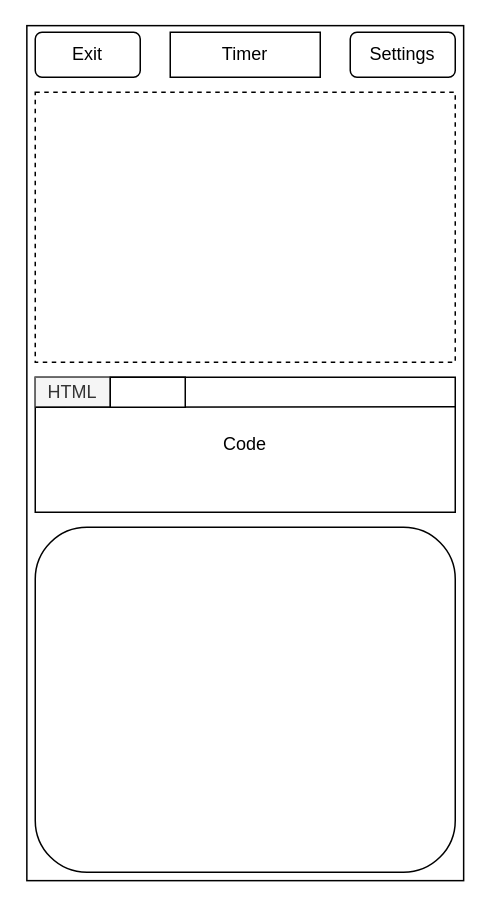
This 491x908 diagram has some shape labels left out. The box of each missing label's shape, as (x1, y1, x2, y2) in pixels:
CSS: (109, 376, 185, 407)
On-screen Keyboard: (34, 526, 455, 872)
Render: (34, 91, 455, 362)
